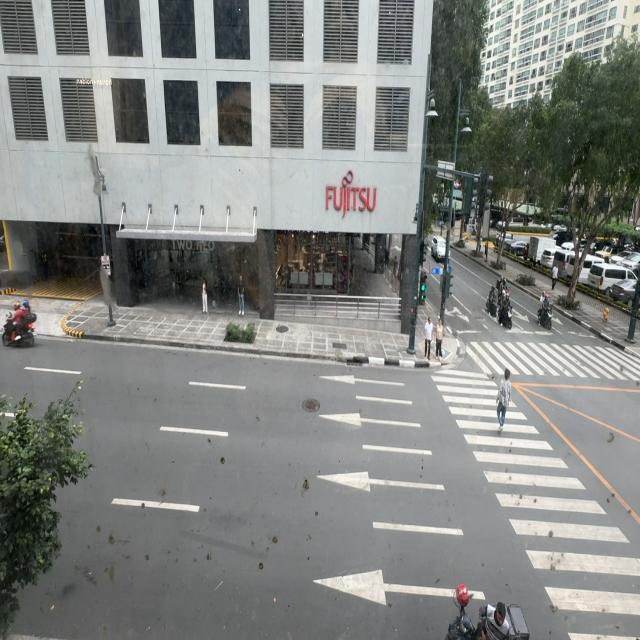crossing: (496, 366, 512, 428)
pedestrain: (238, 275, 245, 316)
waiting: (424, 316, 434, 360), (435, 317, 444, 359)
